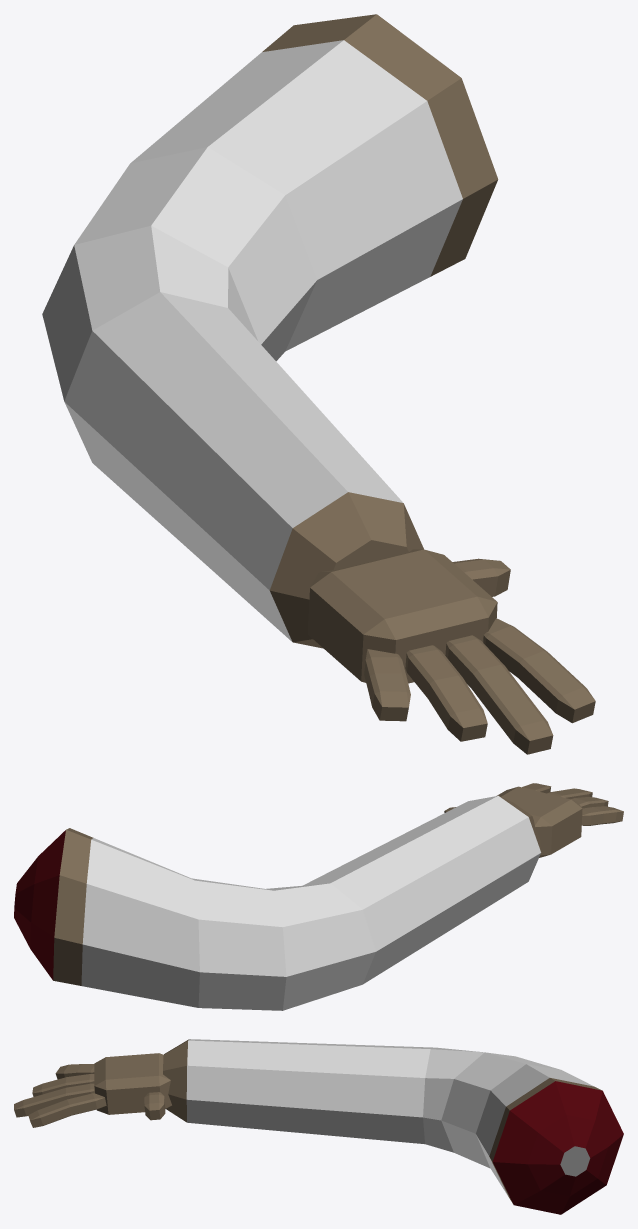
File: arm.glb
3 views of the same model, one above another, from view 1: azimuth 30°, elevation 25°; view 2: azimuth 150°, elevation 25°; view 3: azimuth 270°, elevation 25° (orthographic). The views are drawn at different scales.
Parts seen in each view (by area): view 1: Cylinder.001, Cylinder; view 2: Cylinder.001, Cylinder, Cylinder.002; view 3: Cylinder.001, Cylinder.002, Cylinder, Cylinder.003.
Boxes of the visible parts, left/top/right/bottom form: Cylinder.001: left=42, top=40, right=462, bottom=641; Cylinder: left=262, top=14, right=595, bottom=754; Cylinder.001: left=81, top=795, right=541, bottom=1010; Cylinder: left=53, top=783, right=623, bottom=985; Cylinder.002: left=14, top=830, right=65, bottom=980; Cylinder.001: left=186, top=1039, right=593, bottom=1196; Cylinder.002: left=492, top=1081, right=623, bottom=1214; Cylinder: left=14, top=1039, right=601, bottom=1203; Cylinder.003: left=560, top=1146, right=590, bottom=1176.
Size of the model in its own units: 4.55 by 2.25 by 8.41.
